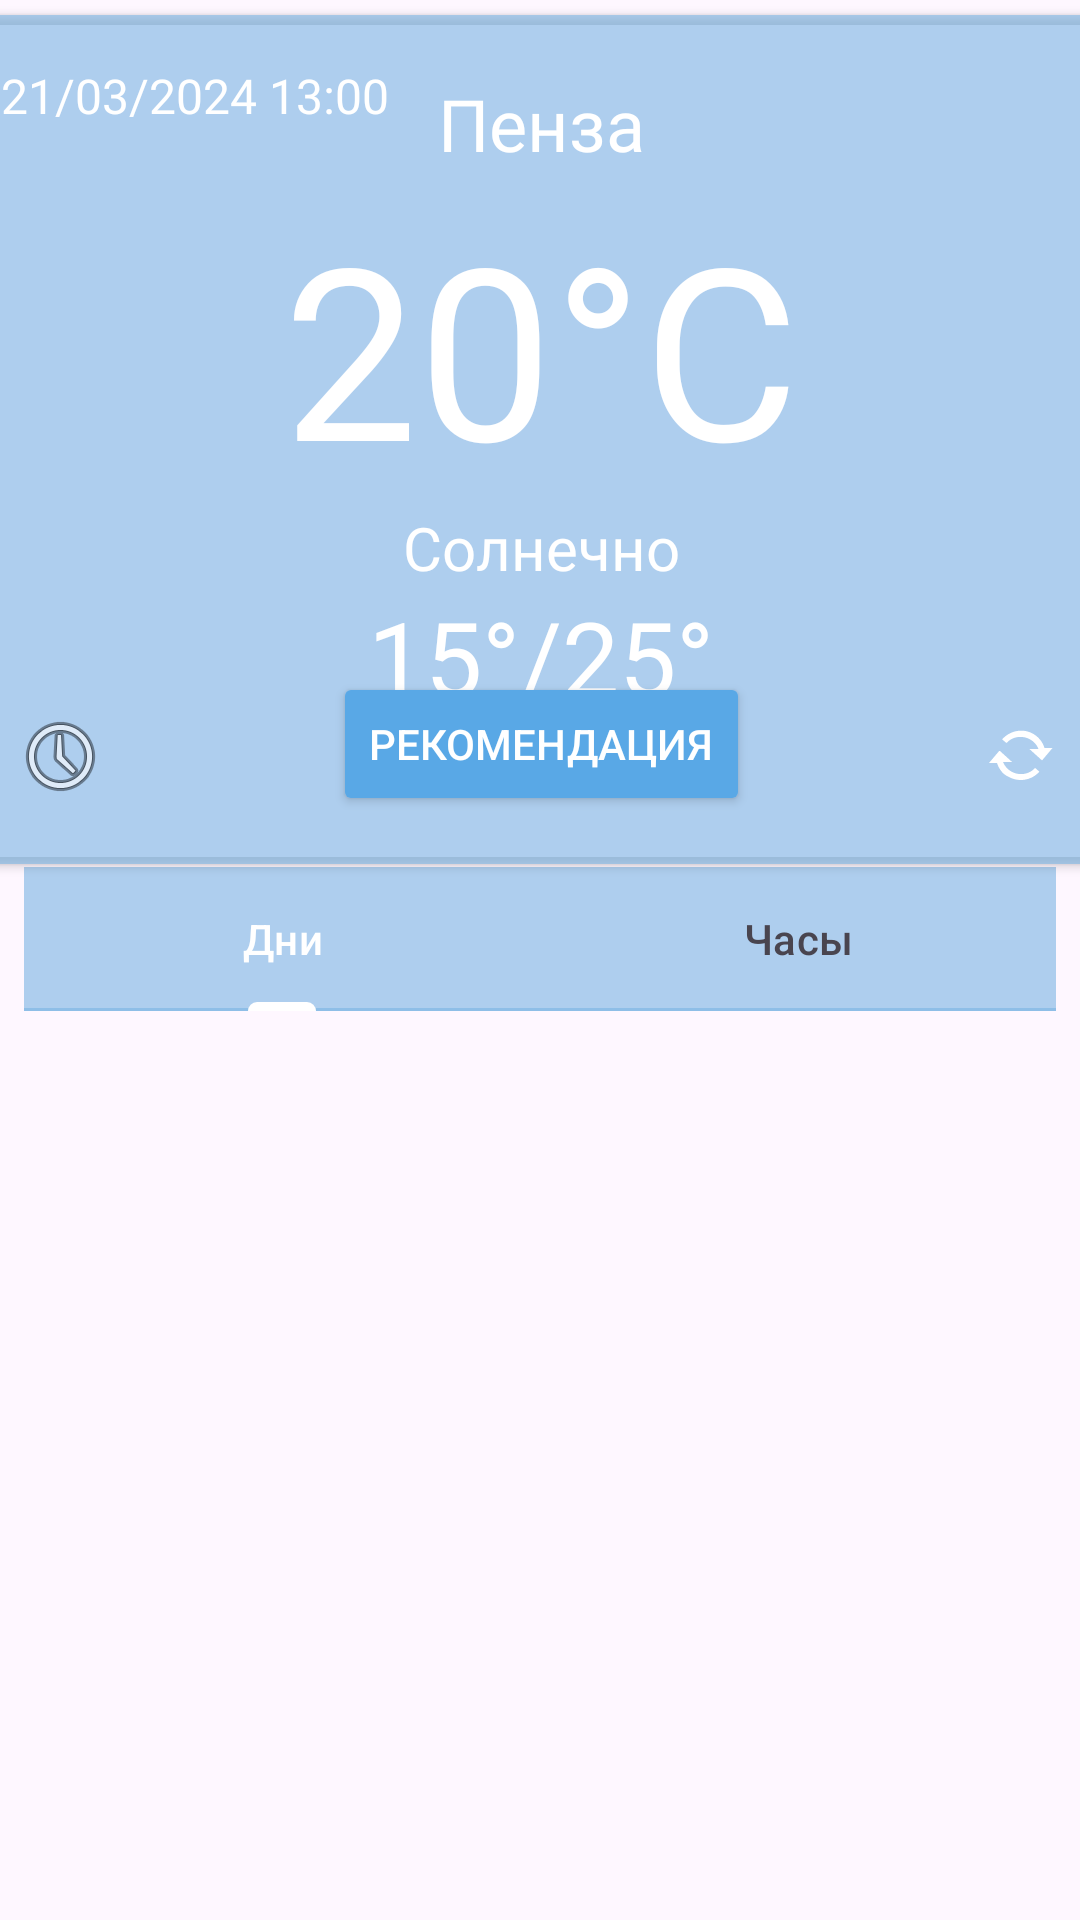

Where icons sit on this 1080×1920 app screen, as (left=x1, top=y1, right=x2, bottom=y2):
recent history: (left=26, top=722, right=95, bottom=791)
sync: (left=989, top=731, right=1052, bottom=780)
